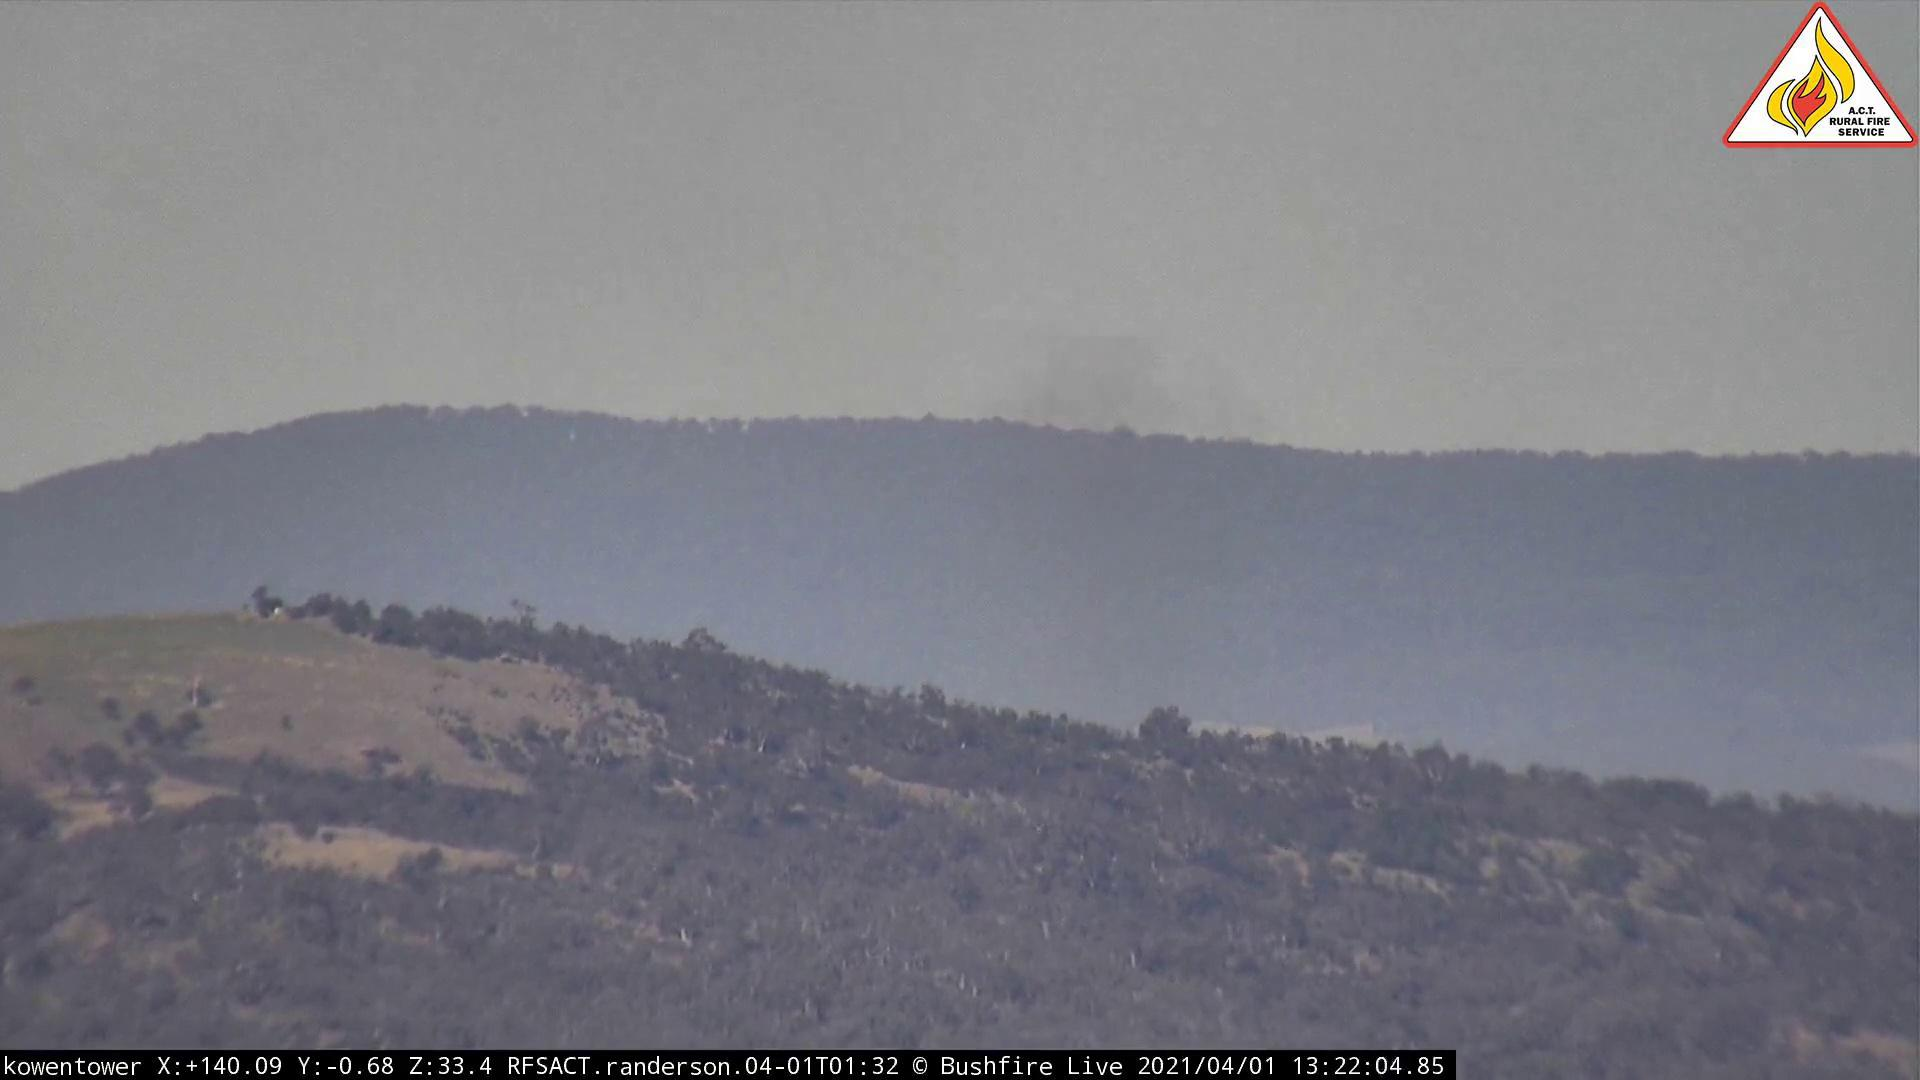Smoke: (873, 294, 1329, 789)
